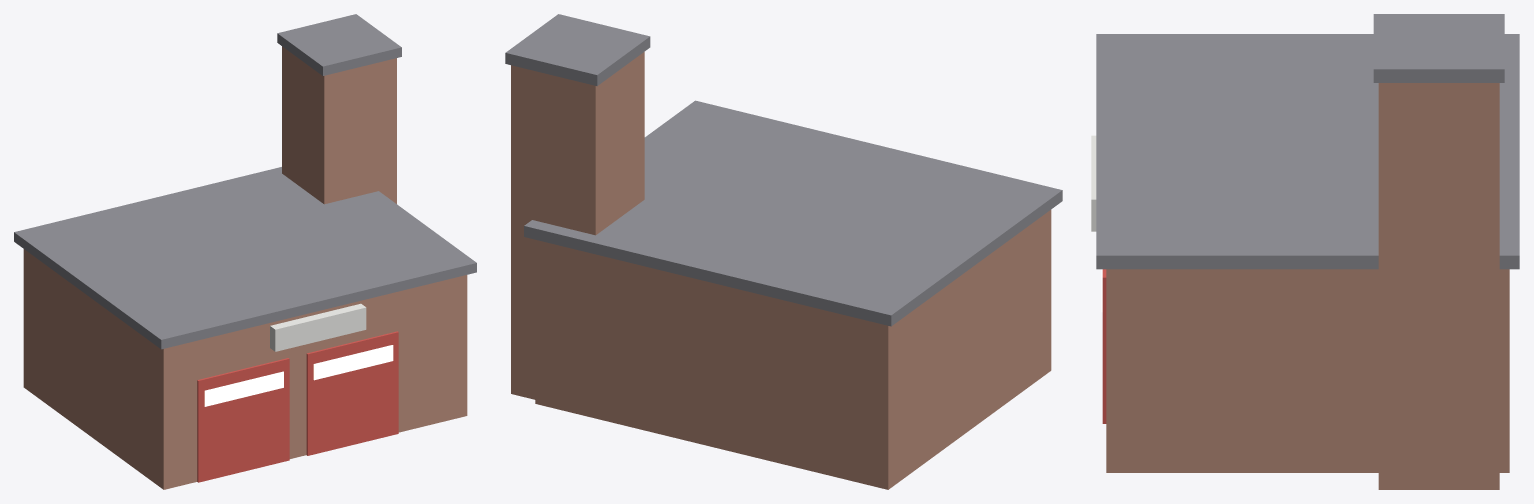
The model's file is fire_station.glb.
3 views of the same model, side by side, from view 1: azimuth 30°, elevation 25°; view 2: azimuth 150°, elevation 25°; view 3: azimuth 270°, elevation 25° (orthographic). The views are drawn at different scales.
Visible parts, largest first — view 1: fire_station; view 2: fire_station; view 3: fire_station.
Boxes of the visible parts, x1,y1,x2,y2 form: fire_station: [14, 14, 476, 489]; fire_station: [505, 14, 1062, 489]; fire_station: [1091, 14, 1519, 489].
Size of the model in its own units: 11.1 by 9.25 by 8.5.
